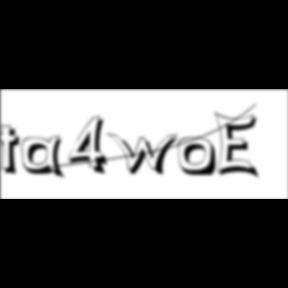4: (68, 115, 114, 179)
E: (215, 110, 264, 182)
a: (22, 135, 70, 182)
o: (178, 137, 220, 179)
t: (1, 124, 28, 179)
w: (107, 132, 185, 178)
